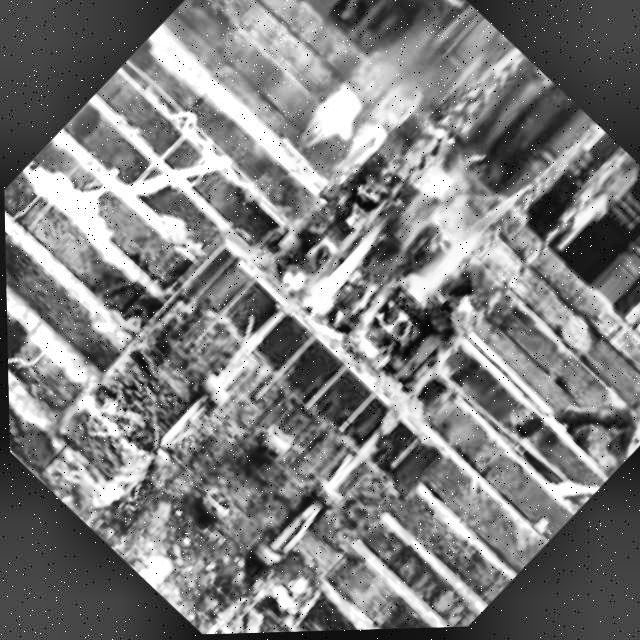Fire: (284, 123, 533, 373)
